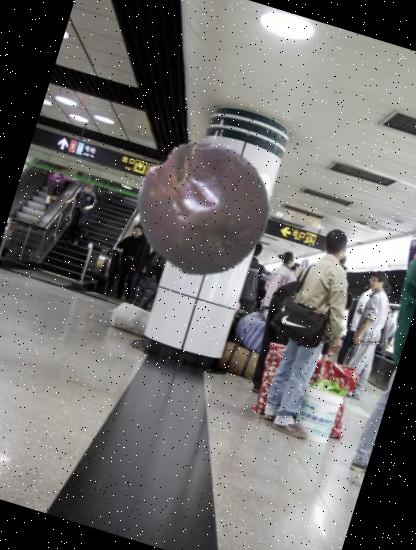Passion: (116, 120, 290, 294)
